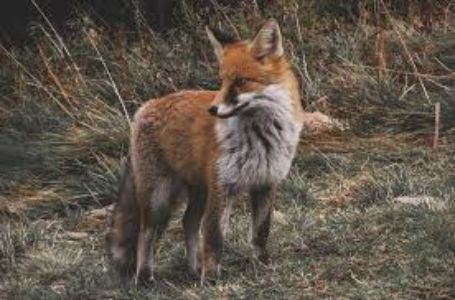fox: (109, 19, 311, 273)
